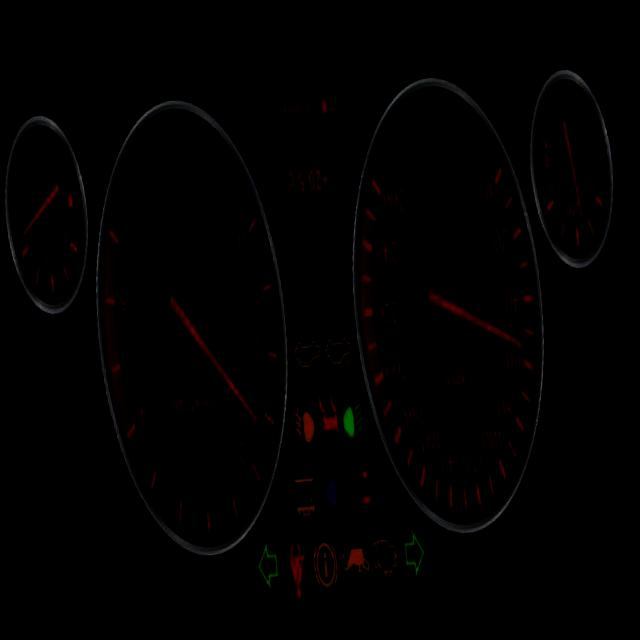kontrolka: (287, 392, 319, 454), (370, 528, 402, 588), (338, 530, 371, 583), (288, 466, 319, 522), (314, 381, 341, 445), (310, 537, 340, 592), (340, 392, 367, 444), (322, 467, 348, 518)
